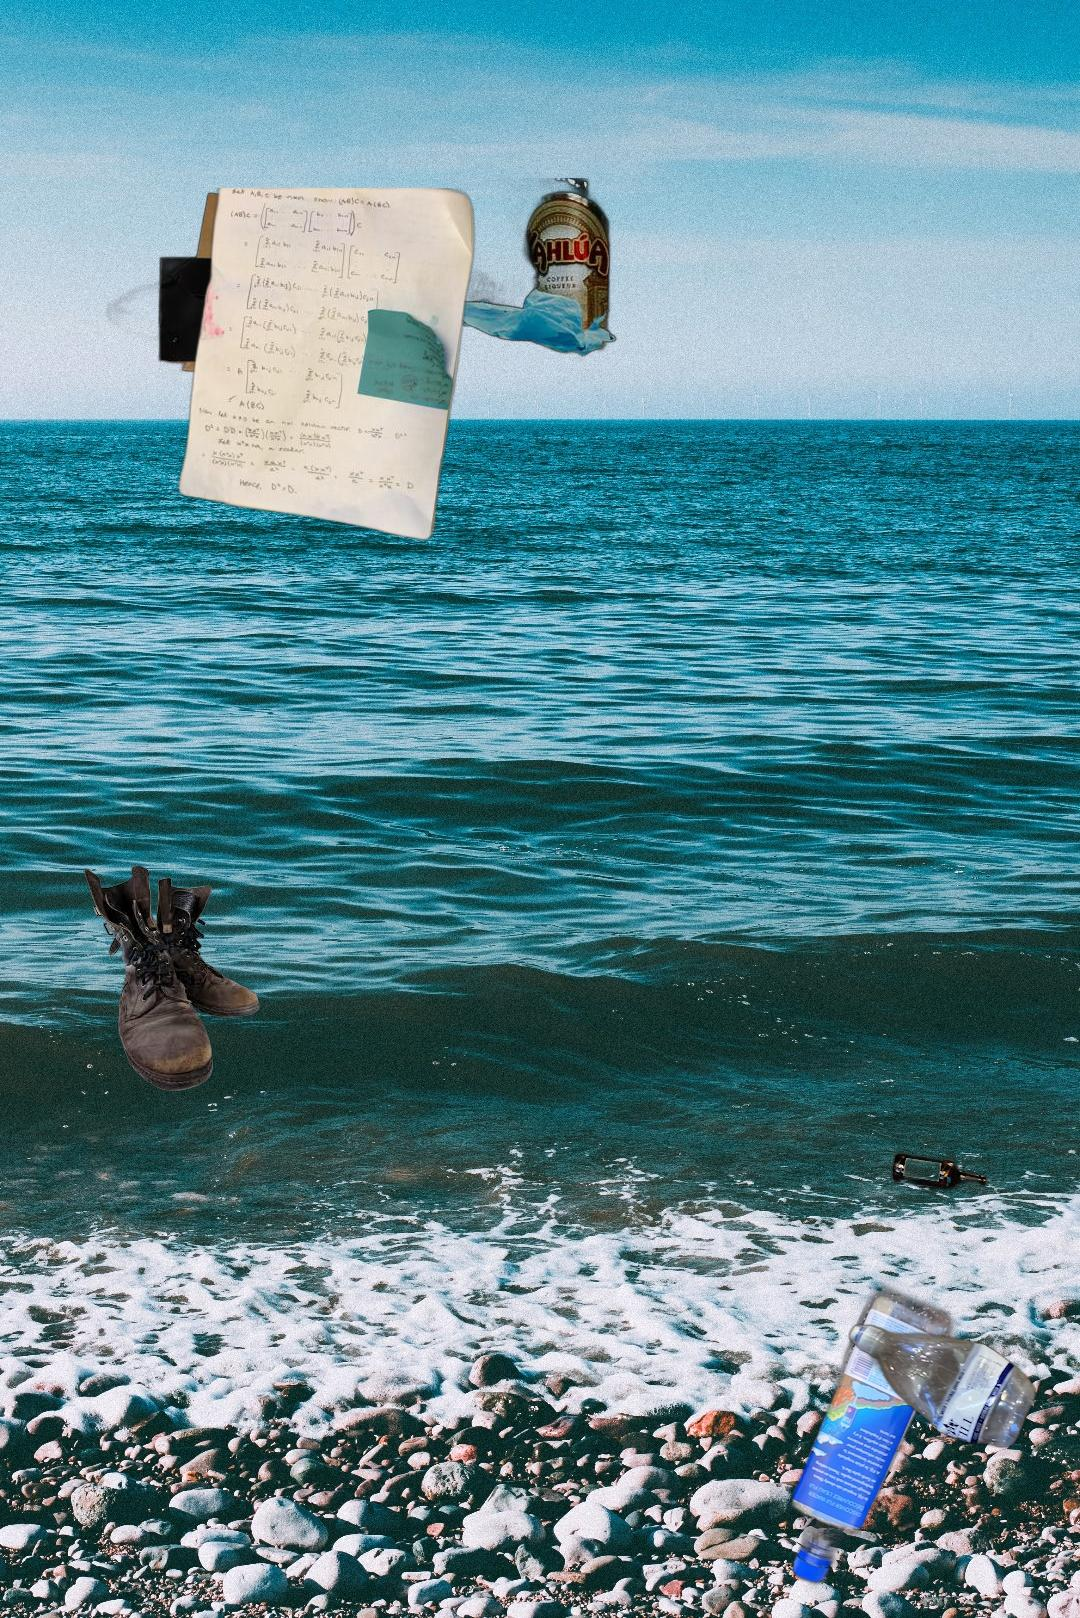glass: (884, 1116, 1000, 1198)
metal-cans: (812, 1436, 1080, 1618)
paper: (174, 188, 479, 543)
paper-bag: (102, 190, 316, 392)
plastic-bag: (417, 178, 620, 382)
plastic-bottles: (670, 1151, 1080, 1618), (847, 1319, 1039, 1452)
shoes: (81, 863, 264, 1094)
